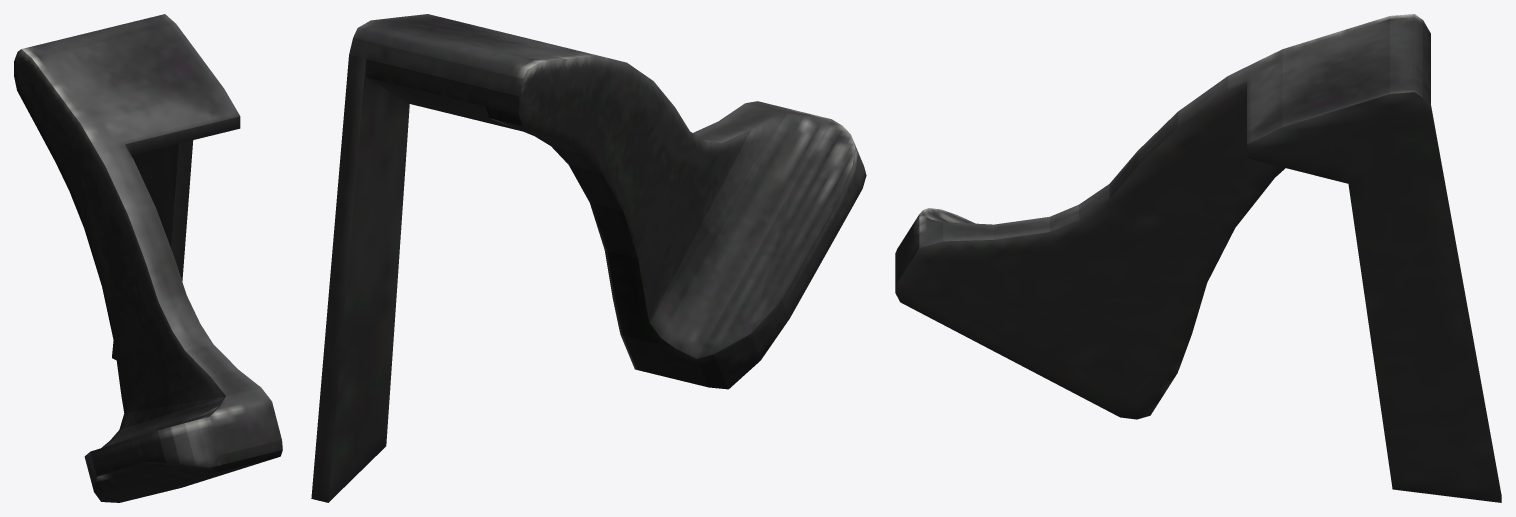
3 views of the same model, side by side, from view 1: azimuth 30°, elevation 25°; view 2: azimuth 150°, elevation 25°; view 3: azimuth 270°, elevation 25° (orthographic). The views are drawn at different scales.
Visible parts, largest first — view 1: TW_61a4c8884f95bc3b2c5dc96f_PZ_Import; view 2: TW_61a4c8884f95bc3b2c5dc96f_PZ_Import; view 3: TW_61a4c8884f95bc3b2c5dc96f_PZ_Import.
Boxes of the visible parts, left/top/right/bottom form: TW_61a4c8884f95bc3b2c5dc96f_PZ_Import: left=14, top=14, right=282, bottom=502; TW_61a4c8884f95bc3b2c5dc96f_PZ_Import: left=311, top=14, right=866, bottom=502; TW_61a4c8884f95bc3b2c5dc96f_PZ_Import: left=895, top=14, right=1501, bottom=502.
Bounding box in the file's own units: 0.00563 × 0.0123 × 0.00918.
1 material, 1 textured.
